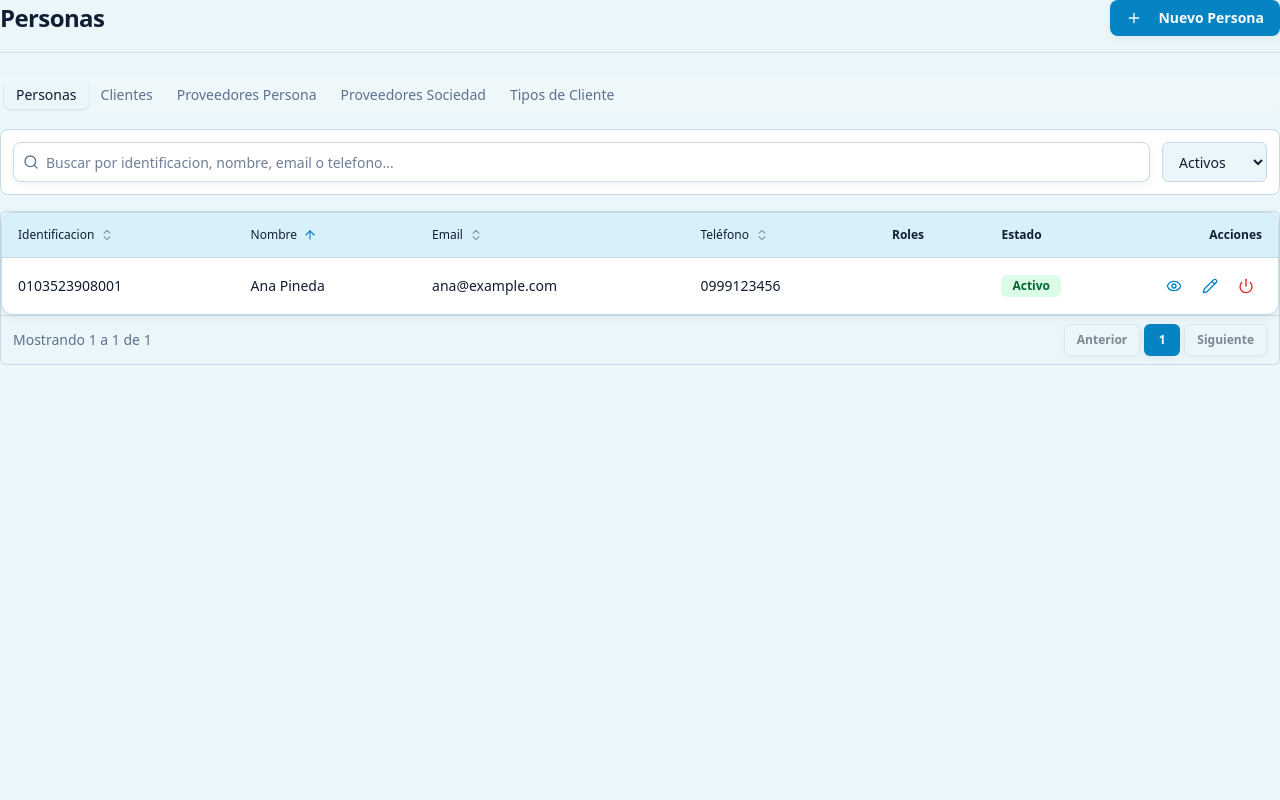
Test: PersonasPage › bloquea la baja cuando hay dependencias activas
Step 1. Click the button named "Desactivar persona Ana Pineda" → (1246, 286), box x1=1230 y1=270 x2=1262 y2=302
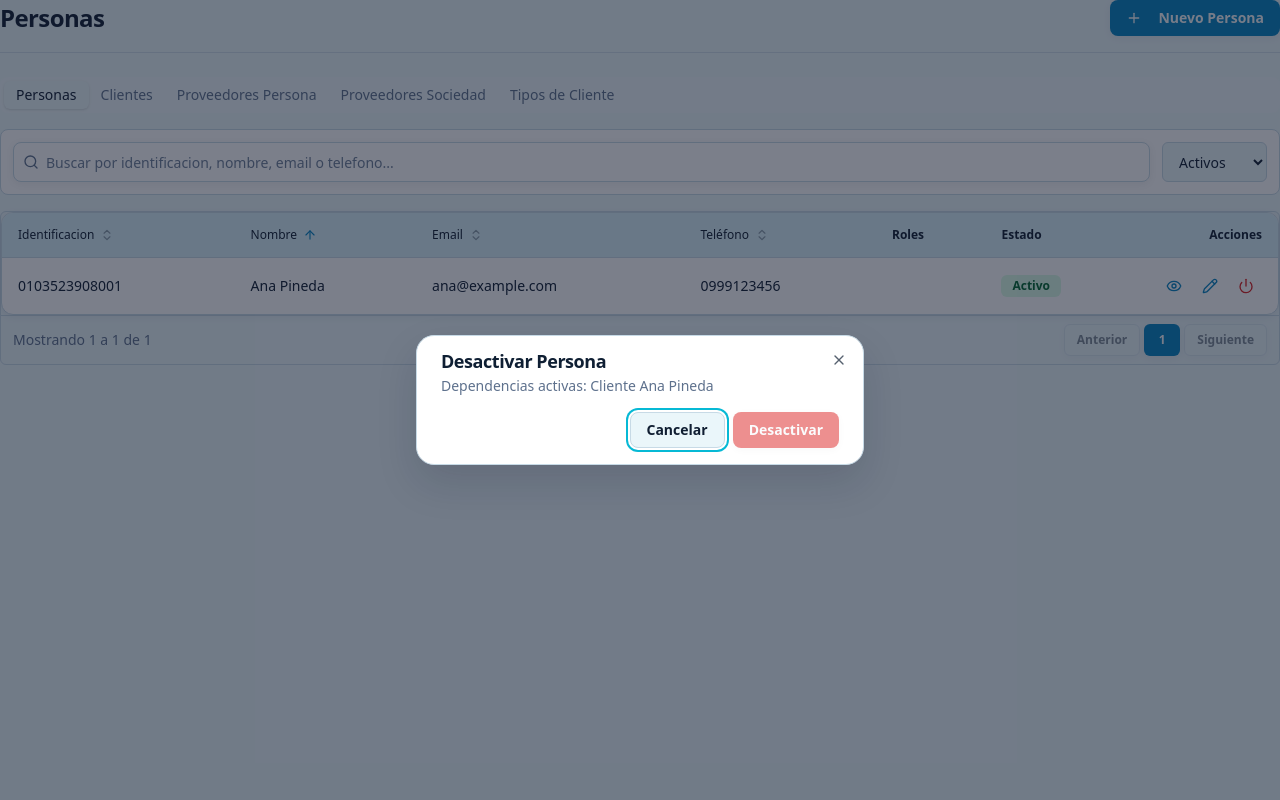
Result: the text "Dependencias activas: Cliente Ana Pineda" is shown at x1=441 y1=376 x2=714 y2=395
Result: the button "Desactivar" is disabled at x1=733 y1=412 x2=839 y2=448
